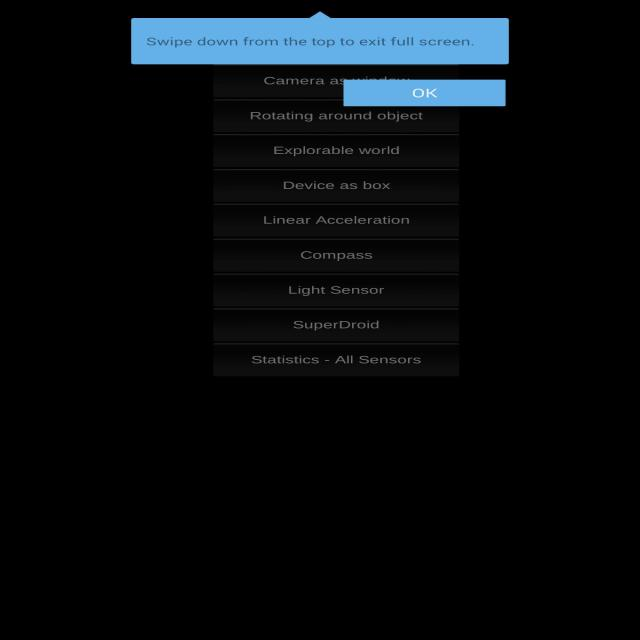button: (211, 310, 457, 342), (213, 171, 457, 202), (212, 207, 458, 237), (212, 242, 458, 272), (211, 276, 457, 306), (211, 346, 457, 376), (213, 137, 458, 167), (215, 70, 457, 98), (214, 105, 456, 132), (345, 80, 506, 105)
text: (144, 35, 479, 51)
